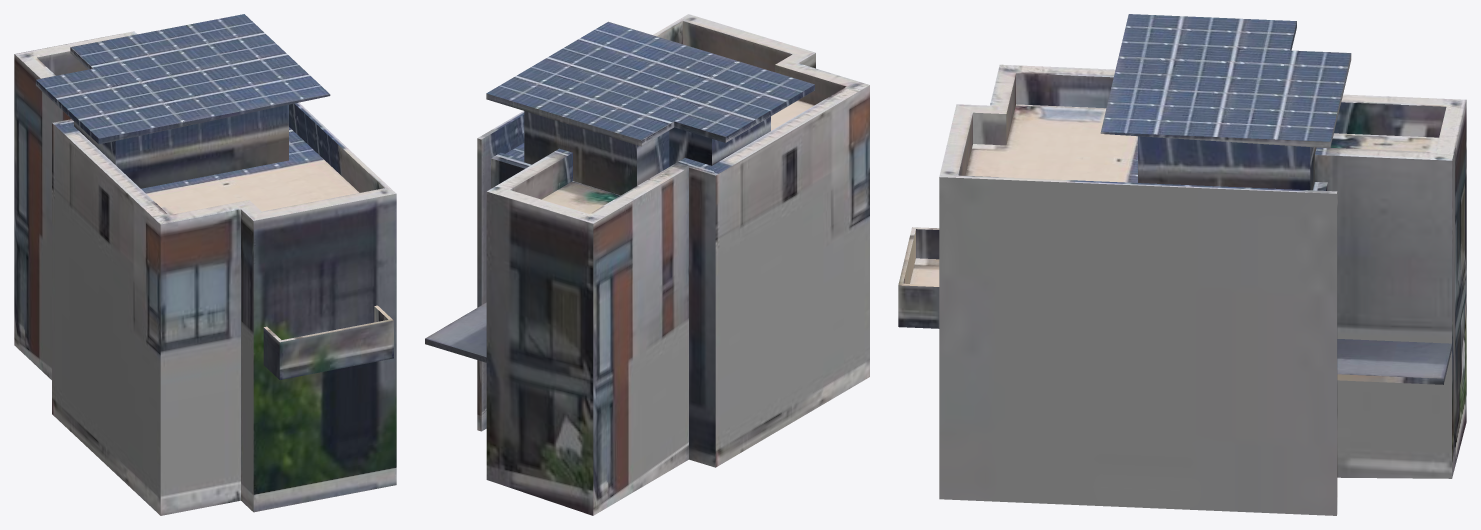
The picture shows the model from 3 angles, left to right: view 1: azimuth 30°, elevation 25°; view 2: azimuth 150°, elevation 25°; view 3: azimuth 270°, elevation 25°; orthographic projection. The views are drawn at different scales.
Visible parts, largest first — view 1: B286834035101062A0; view 2: B286834035101062A0; view 3: B286834035101062A0.
Part boxes in pixels (<box>): B286834035101062A0: <box>14,14,396,515</box>; B286834035101062A0: <box>425,14,869,515</box>; B286834035101062A0: <box>898,14,1466,515</box>.
Bounding box in the file's own units: 8.78 × 11.4 × 15.83.
Materials: 1 (1 with a texture image).
